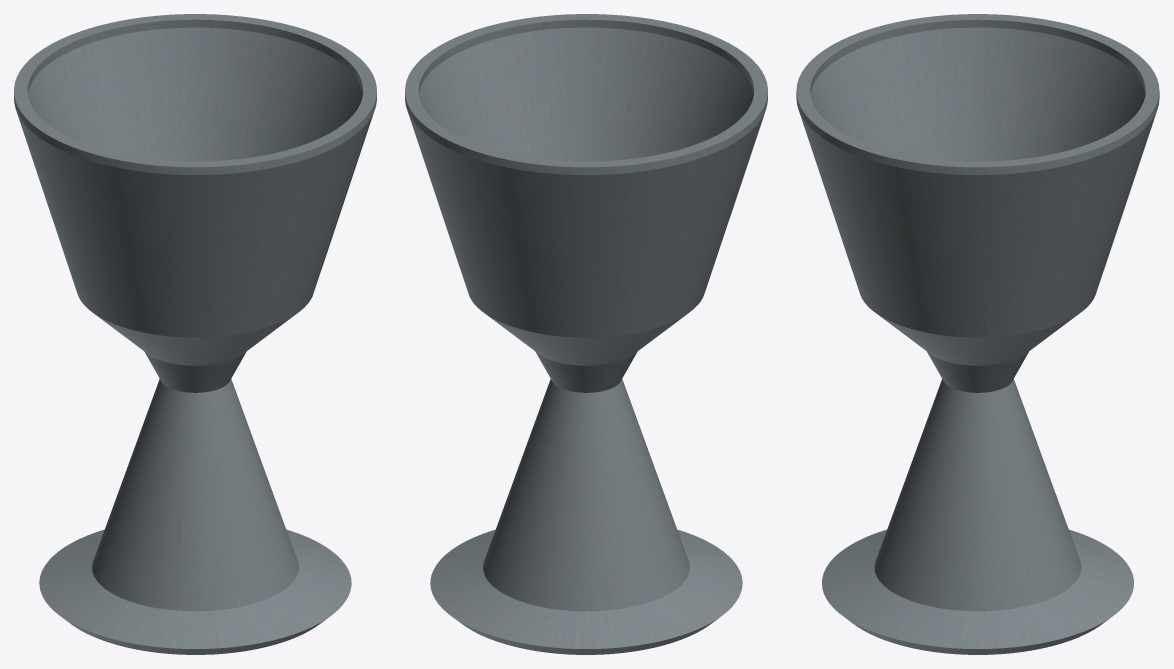
Rendered from misc_com_metal_goblet_02.dae.
3 renders of one model, left to right at view 1: azimuth 30°, elevation 25°; view 2: azimuth 150°, elevation 25°; view 3: azimuth 270°, elevation 25°, orthographic.
Parts seen in each view (by area): view 1: silver; view 2: silver; view 3: silver.
Part boxes in pixels (x1,y1,x2,y2): silver: (14, 14, 376, 654); silver: (405, 14, 767, 654); silver: (796, 14, 1159, 654).
Size of the model in its own units: 8.47 by 8.47 by 12.97.
